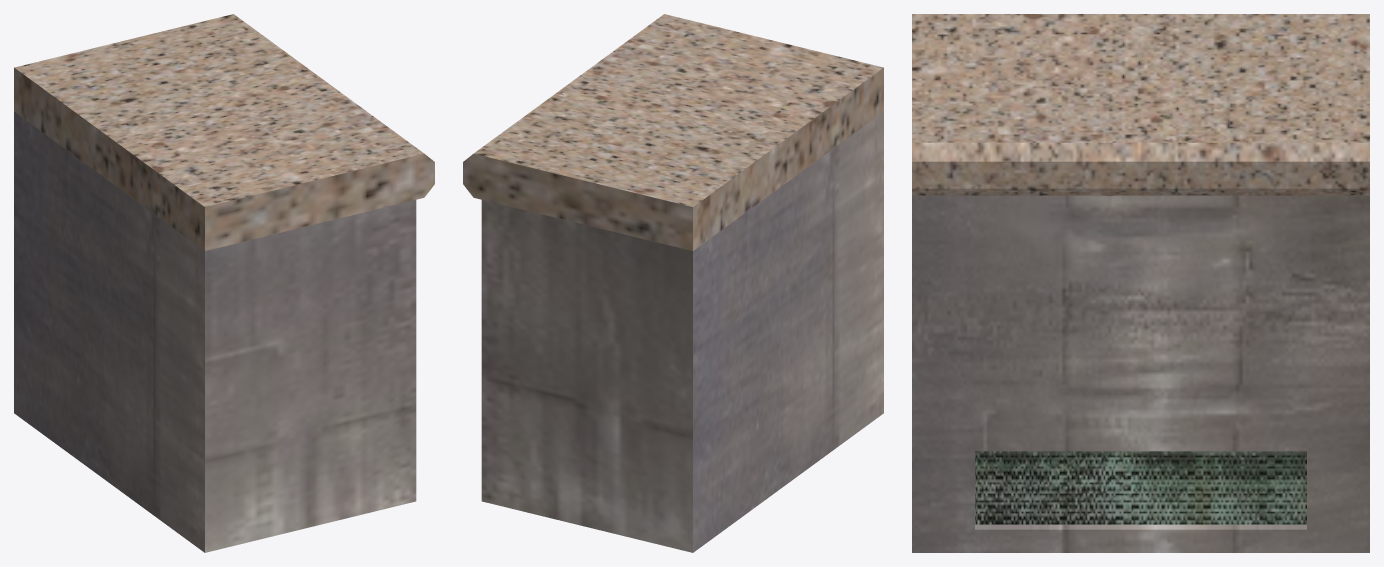
File: base_counter_top.fbx
3 views of the same model, side by side, from view 1: azimuth 30°, elevation 25°; view 2: azimuth 150°, elevation 25°; view 3: azimuth 270°, elevation 25° (orthographic). The views are drawn at different scales.
Visible parts, largest first — view 1: Cube; view 2: Cube; view 3: Cube.
Part boxes in pixels (left/top/right/bottom): Cube: left=14, top=14, right=434, bottom=552; Cube: left=463, top=14, right=883, bottom=552; Cube: left=912, top=14, right=1369, bottom=552.
Bounding box in the file's own units: 62.63 × 90 × 90.
